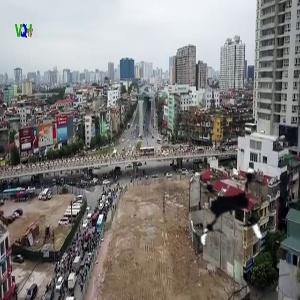drone: (187, 166, 282, 261)
